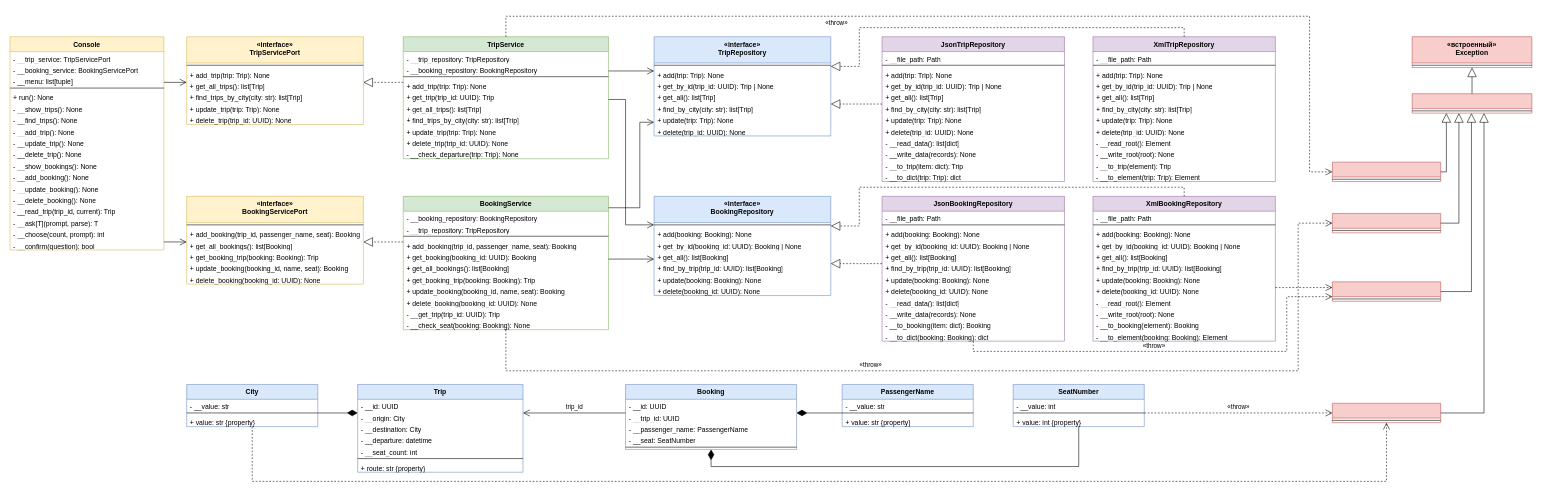
Image size: 1542x498. Some labels were removed from this diagram. The shapes that lost their labels are listed below. From the top down, each one's centre as x and y in pixels, then its label:
[1472,103]: TicketingError
[1386,172]: NotFoundError
[1386,223]: AlreadyExistsError
[1386,291]: StorageError
[1386,413]: ValidationError
